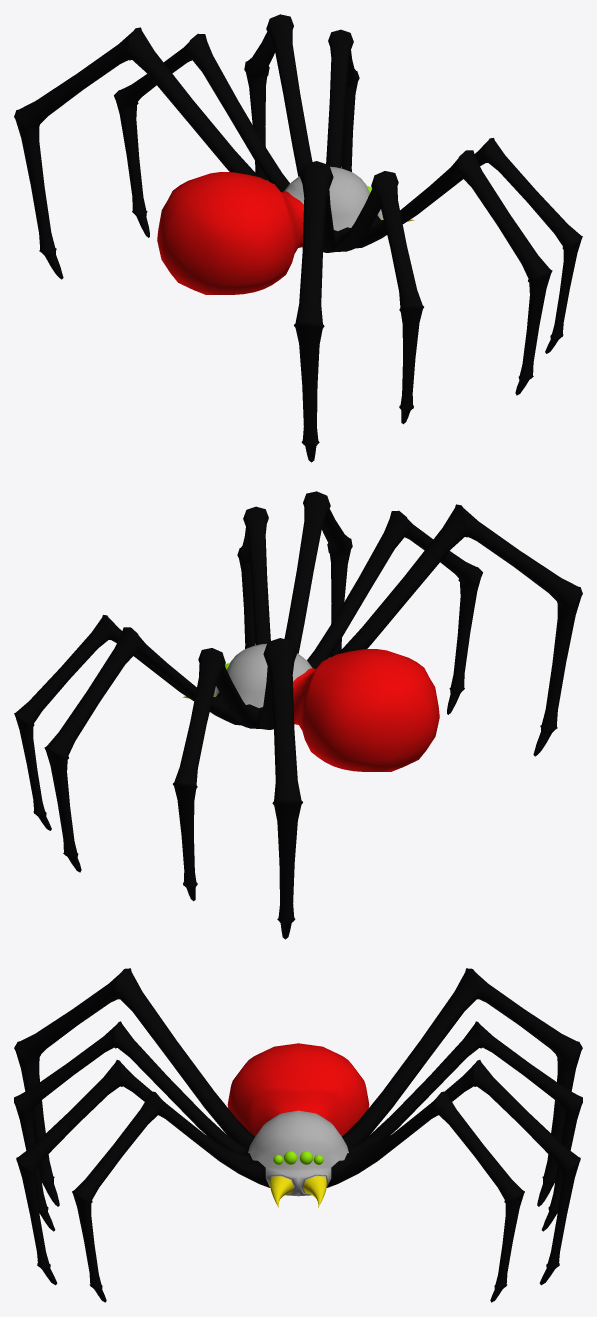
The model's file is spider7.fbx.
The picture shows the model from 3 angles, top to bottom: view 1: azimuth 30°, elevation 25°; view 2: azimuth 150°, elevation 25°; view 3: azimuth 270°, elevation 25°; orthographic projection. The views are drawn at different scales.
Visible parts, largest first — view 1: polySurface16; view 2: polySurface16; view 3: polySurface16.
Boxes of the visible parts, x1=… form: polySurface16: x1=14, y1=14, x2=582, y2=462; polySurface16: x1=14, y1=491, x2=582, y2=939; polySurface16: x1=14, y1=968, x2=582, y2=1302.
Bounding box in the file's own units: 10.22 × 8.29 × 16.65.
